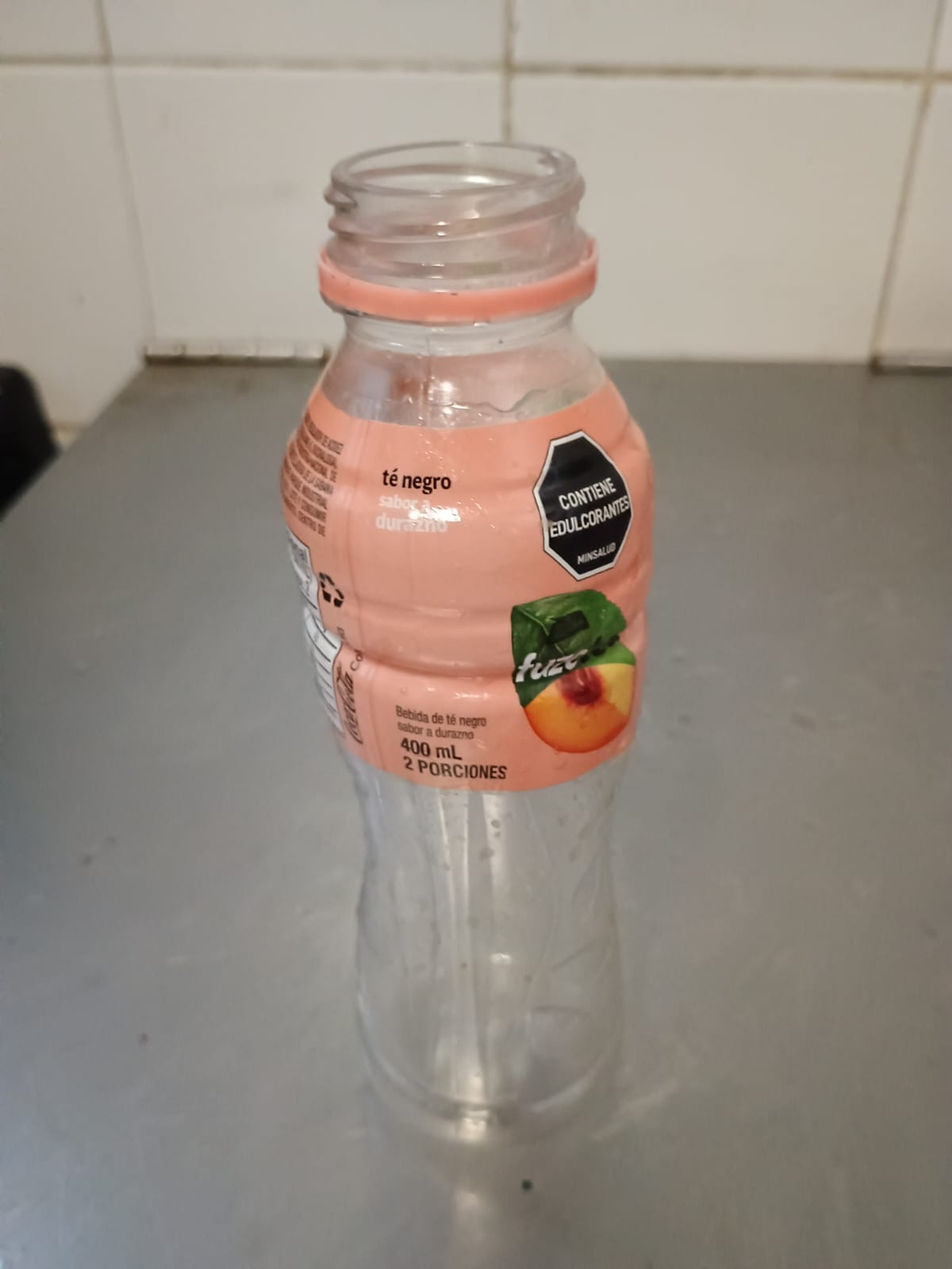Plastico: (276, 138, 655, 1124)
